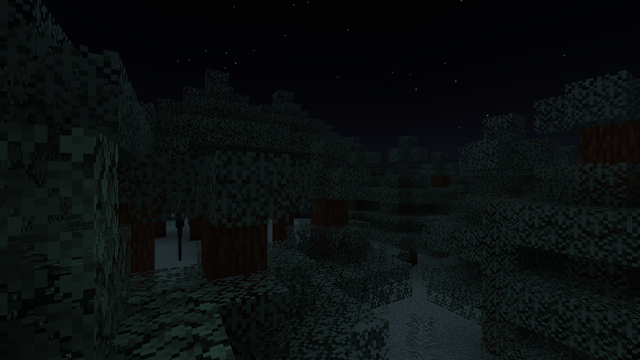endermens: (174, 228, 183, 262)
